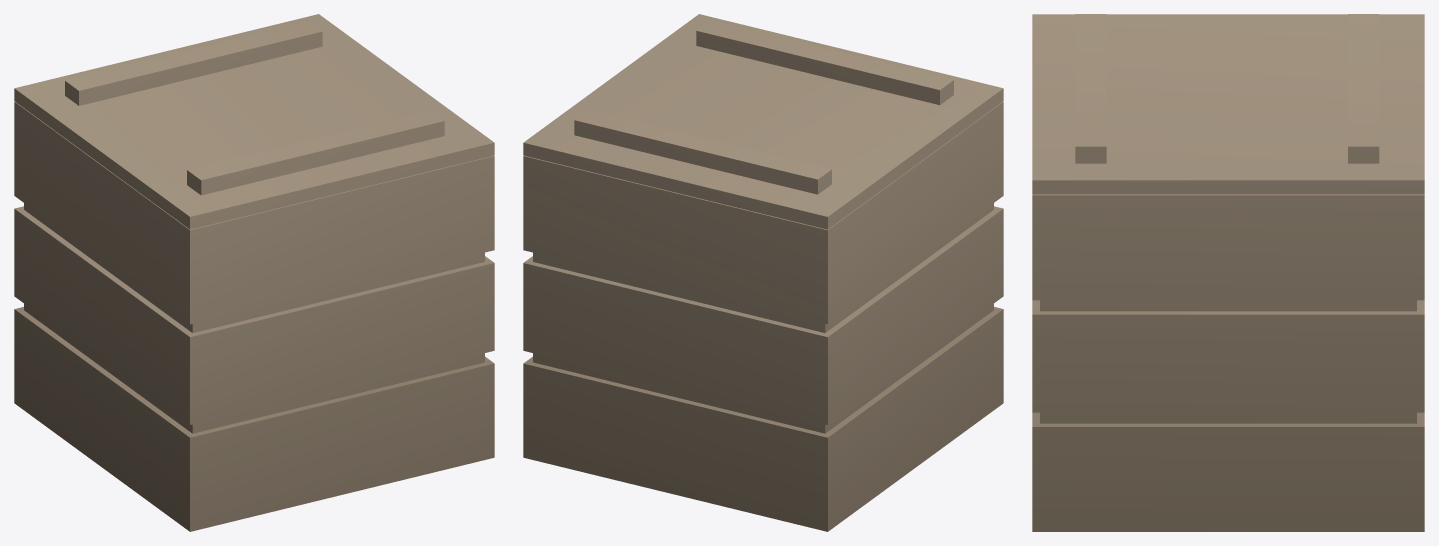
File: Ammo_box.fbx
The picture shows the model from 3 angles, left to right: view 1: azimuth 30°, elevation 25°; view 2: azimuth 150°, elevation 25°; view 3: azimuth 270°, elevation 25°; orthographic projection. The views are drawn at different scales.
Parts seen in each view (by area): view 1: Ammo_box; view 2: Ammo_box; view 3: Ammo_box.
Boxes of the visible parts, x1,y1,x2,y2 form: Ammo_box: [14, 14, 494, 531]; Ammo_box: [523, 14, 1003, 531]; Ammo_box: [1032, 14, 1424, 531].
Size of the model in its own units: 69.74 by 72.24 by 69.74.
